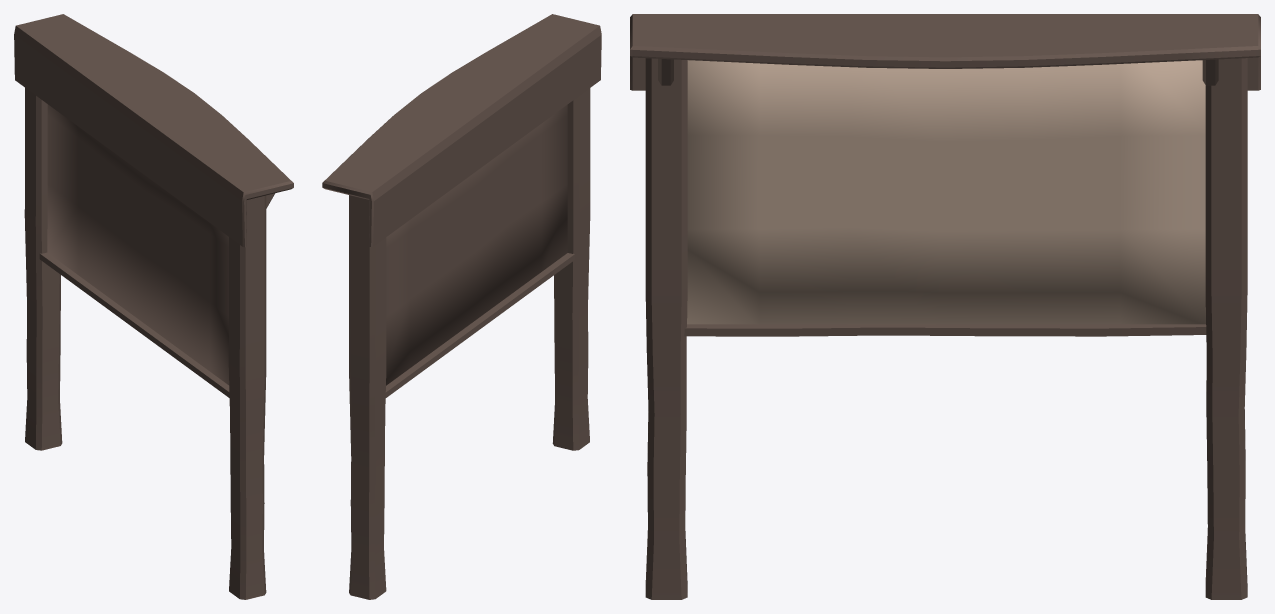
File: TutorialDesk.fbx
3 views of the same model, side by side, from view 1: azimuth 30°, elevation 25°; view 2: azimuth 150°, elevation 25°; view 3: azimuth 270°, elevation 25° (orthographic). The views are drawn at different scales.
Visible parts, largest first — view 1: TutotorialBoard; view 2: TutotorialBoard; view 3: TutotorialBoard.
Boxes of the visible parts, <box> form: TutotorialBoard: <box>14,14,293,599</box>; TutotorialBoard: <box>322,14,601,599</box>; TutotorialBoard: <box>630,14,1260,599</box>.
Size of the model in its own units: 17.57 by 101 by 102.
